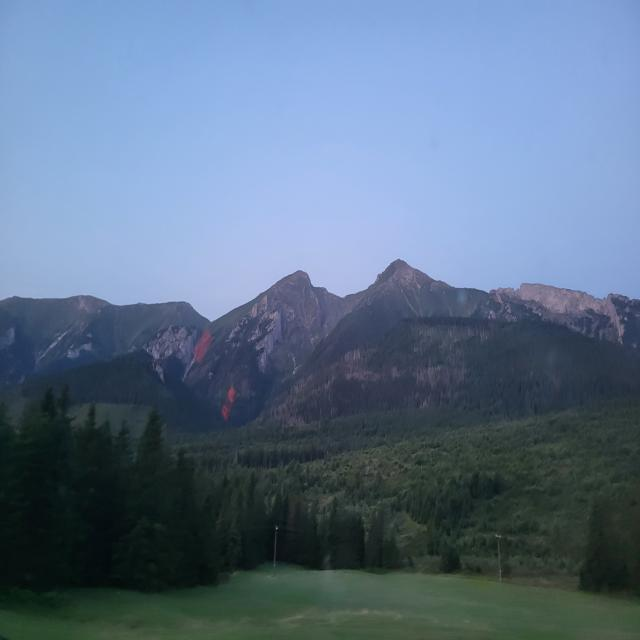Hreben Bast: (120, 244, 248, 363)
Koncista: (322, 205, 472, 321)
